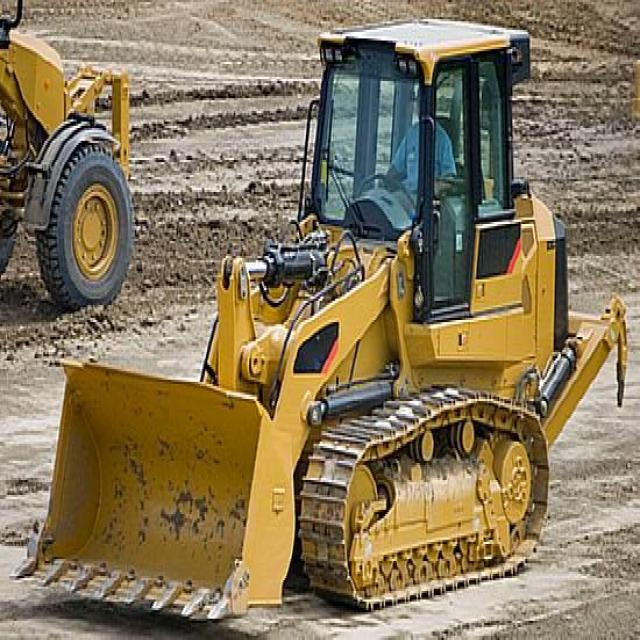Bulldozer: (35, 8, 632, 614)
